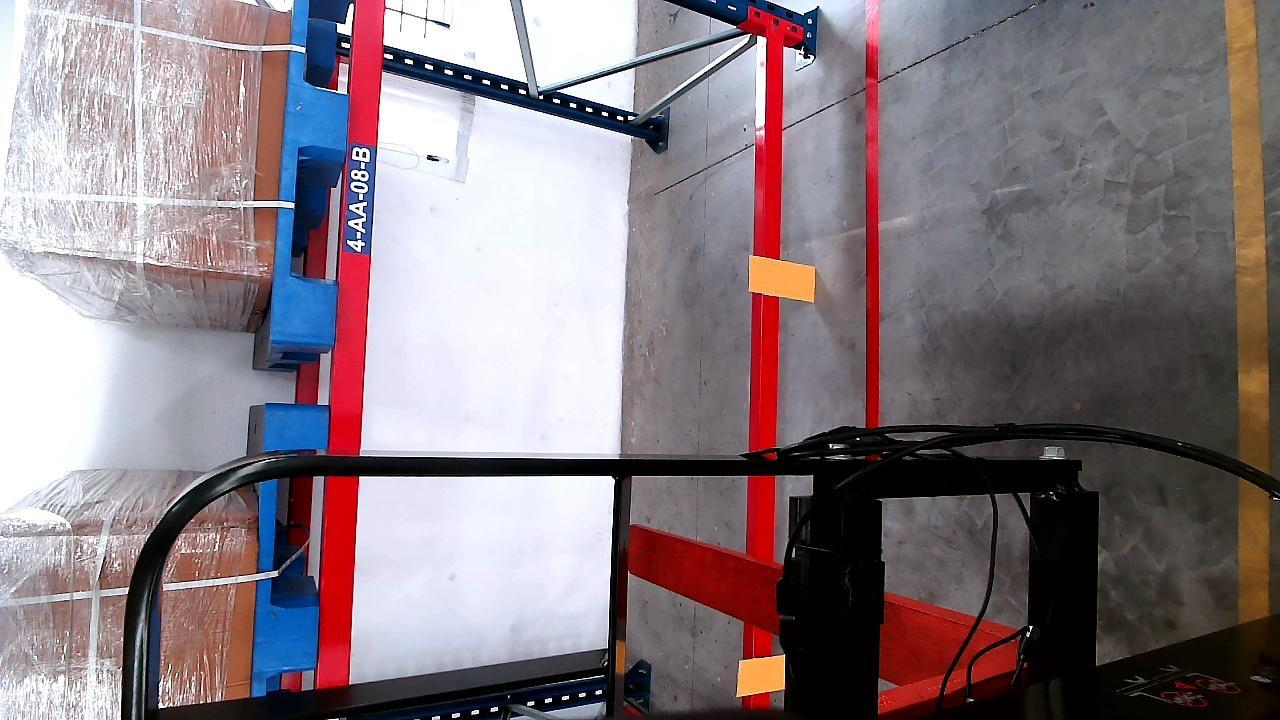red_line: (865, 0, 881, 427)
yellow_line: (1229, 0, 1270, 621)
